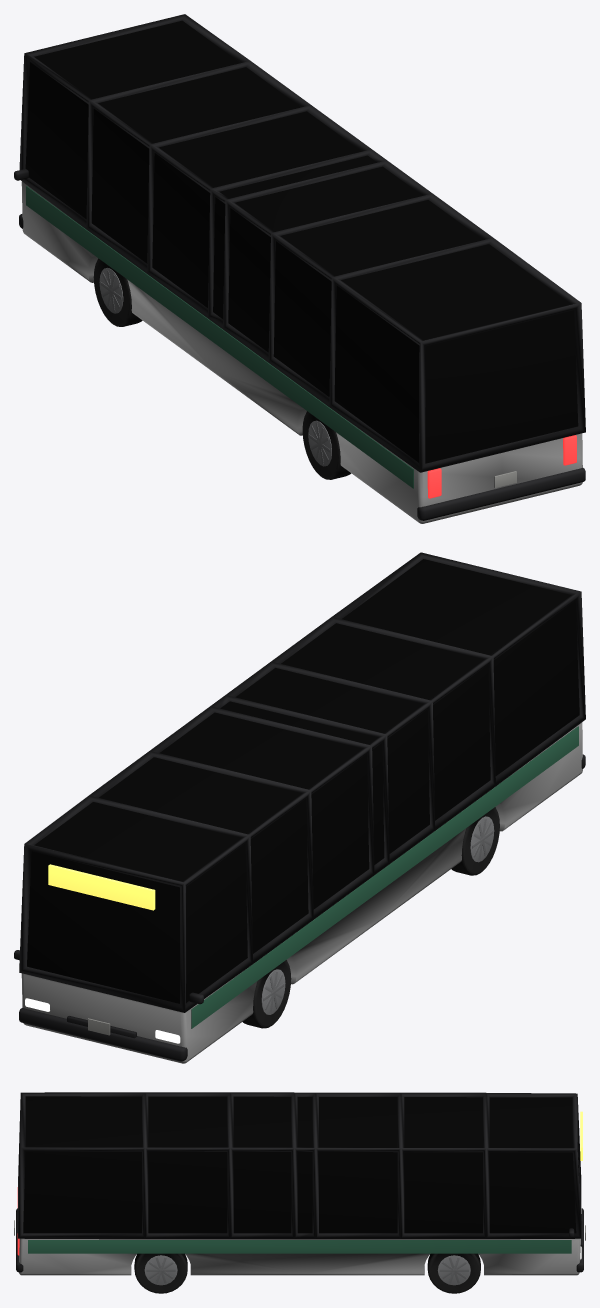
Rendered from car_bus.glb.
3 renders of one model, top to bottom at view 1: azimuth 30°, elevation 25°; view 2: azimuth 150°, elevation 25°; view 3: azimuth 270°, elevation 25°, orthographic. The views are drawn at different scales.
Parts seen in each view (by area): view 1: Cabin, Frame, Body, Stripe, BumperR, WheelMesh_RL, WheelMesh_FL, Light_Tail; view 2: Cabin, Frame, Body, Stripe, Light_Dest, BumperF, WheelMesh_RL, WheelMesh_FL; view 3: Cabin, Frame, Body, Stripe.001, WheelMesh_RR, WheelMesh_FR.
Part boxes in pixels (x1=…): Cabin: x1=25, y1=20, x2=578, y2=463; Frame: x1=19, y1=14, x2=585, y2=472; Body: x1=21, y1=181, x2=582, y2=523; Stripe: x1=26, y1=186, x2=413, y2=488; BumperR: x1=417, y1=468, x2=585, y2=520; WheelMesh_RL: x1=302, y1=411, x2=351, y2=479; WheelMesh_FL: x1=93, y1=258, x2=142, y2=326; Light_Tail: x1=427, y1=435, x2=576, y2=498; Cabin: x1=27, y1=559, x2=579, y2=1003; Frame: x1=19, y1=552, x2=585, y2=1012; Body: x1=21, y1=722, x2=582, y2=1063; Stripe: x1=191, y1=726, x2=578, y2=1028; Light_Dest: x1=48, y1=864, x2=155, y2=910; BumperF: x1=19, y1=1008, x2=187, y2=1061; WheelMesh_RL: x1=451, y1=807, x2=499, y2=875; WheelMesh_FL: x1=242, y1=960, x2=291, y2=1028; Cabin: x1=23, y1=1096, x2=579, y2=1233; Frame: x1=18, y1=1092, x2=581, y2=1239; Body: x1=19, y1=1238, x2=580, y2=1275; Stripe.001: x1=28, y1=1240, x2=571, y2=1253; WheelMesh_RR: x1=134, y1=1253, x2=187, y2=1293; WheelMesh_FR: x1=427, y1=1253, x2=480, y2=1293.
Size of the model in its own units: 2.86 by 3.04 by 10.73.
